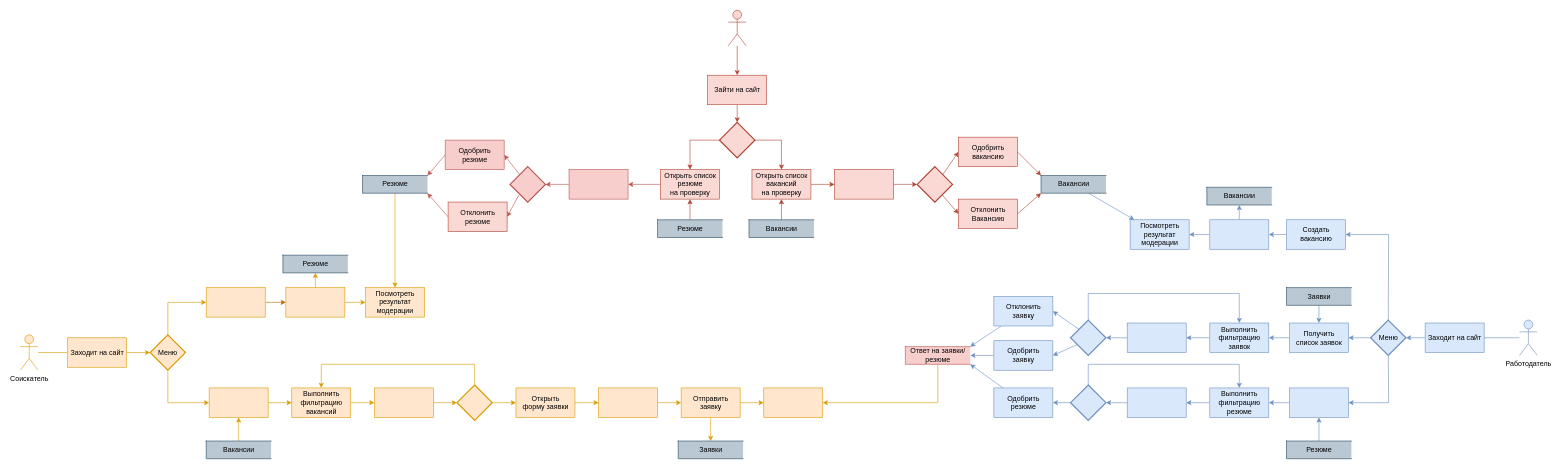
This 1562x469 diagram has some shape labels left out. The centre of each missing label's shape, as x and y in pixels:
"Заполнить форму заявки" belongs at point (628, 402).
"Модератор" belongs at point (737, 28).
"Открыть карточку вакансии" belongs at point (403, 402).
"Открыть резюме" belongs at point (1156, 402).
"Отправить вакансию на проверку" belongs at point (1239, 234).
"Отправить резюме на проверку" belongs at point (315, 302).
"Получить список вакансий" belongs at point (238, 402).
"Получить список резюме" belongs at point (1318, 402).
"Просмотреть заявку" belongs at point (1156, 337).
"Просмотреть карточку вакансии" belongs at point (864, 184).
"Просмотреть ответ на заявку" belongs at point (793, 402).
"Просмотреть резюме" belongs at point (598, 184).
"Создать резюме" belongs at point (235, 302).
